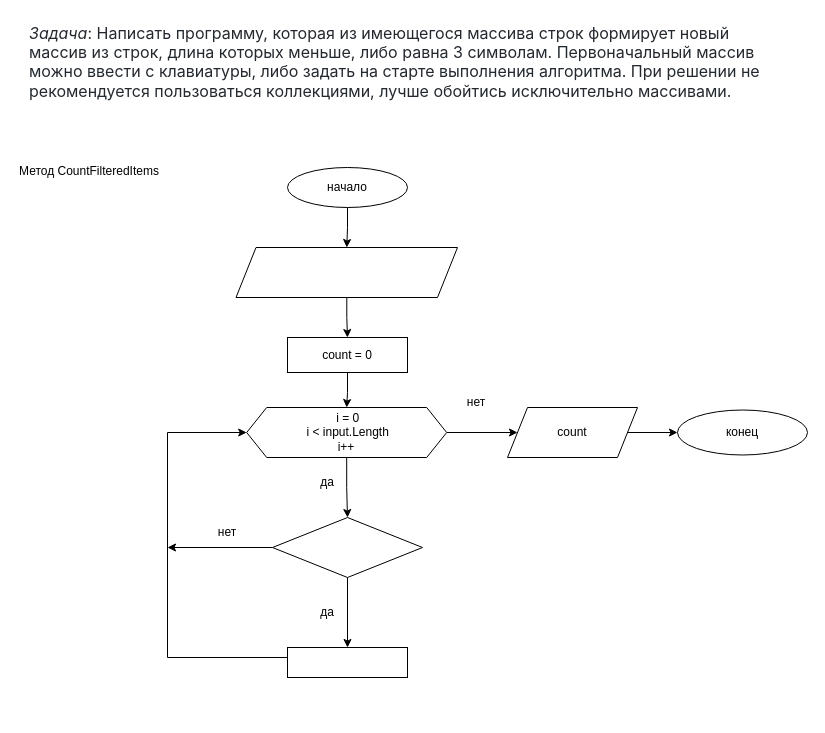
Image size: 825x733. Some labels were removed from this diagram. Here are the shapes that lost their labels. From the top down, the box of each, then its label:
(235, 246, 458, 298): input:array maxLength
(272, 516, 422, 578): input[i].Length <= maxLength
(286, 646, 408, 678): count++
